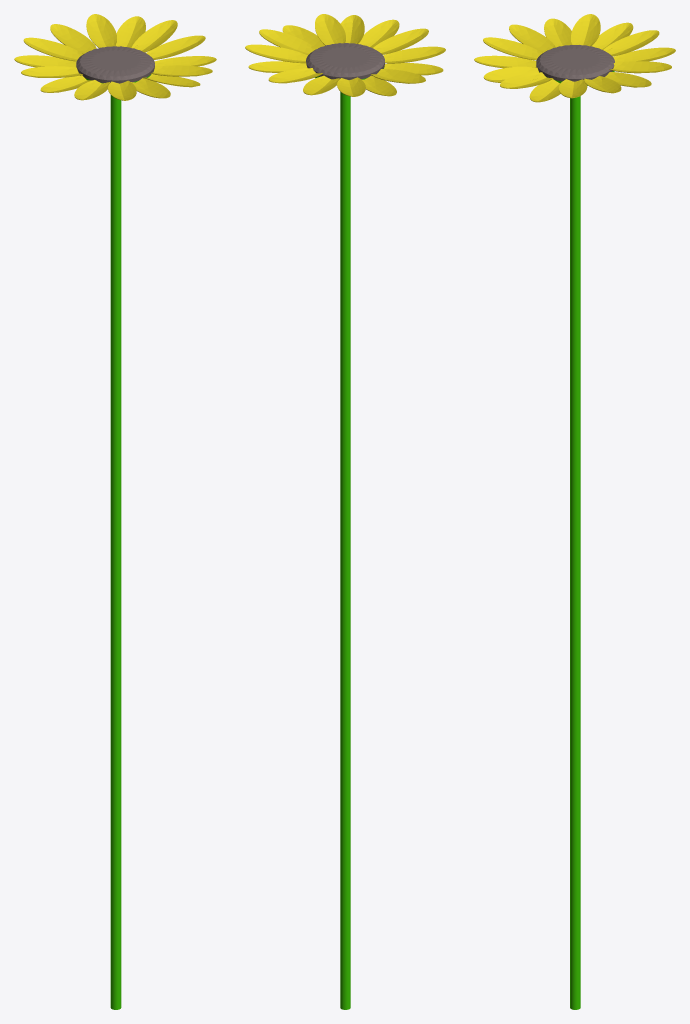
The model's file is gerbera_yellow.dae.
The picture shows the model from 3 angles, left to right: view 1: azimuth 30°, elevation 25°; view 2: azimuth 150°, elevation 25°; view 3: azimuth 270°, elevation 25°; orthographic projection.
Parts seen in each view (by area): view 1: Cylinder; view 2: Cylinder; view 3: Cylinder.
Boxes of the visible parts, x1,y1,x2,y2 form: Cylinder: [14, 14, 216, 1009]; Cylinder: [245, 14, 445, 1009]; Cylinder: [474, 14, 675, 1009].
Size of the model in its own units: 1.92 by 1.93 by 10.05.
